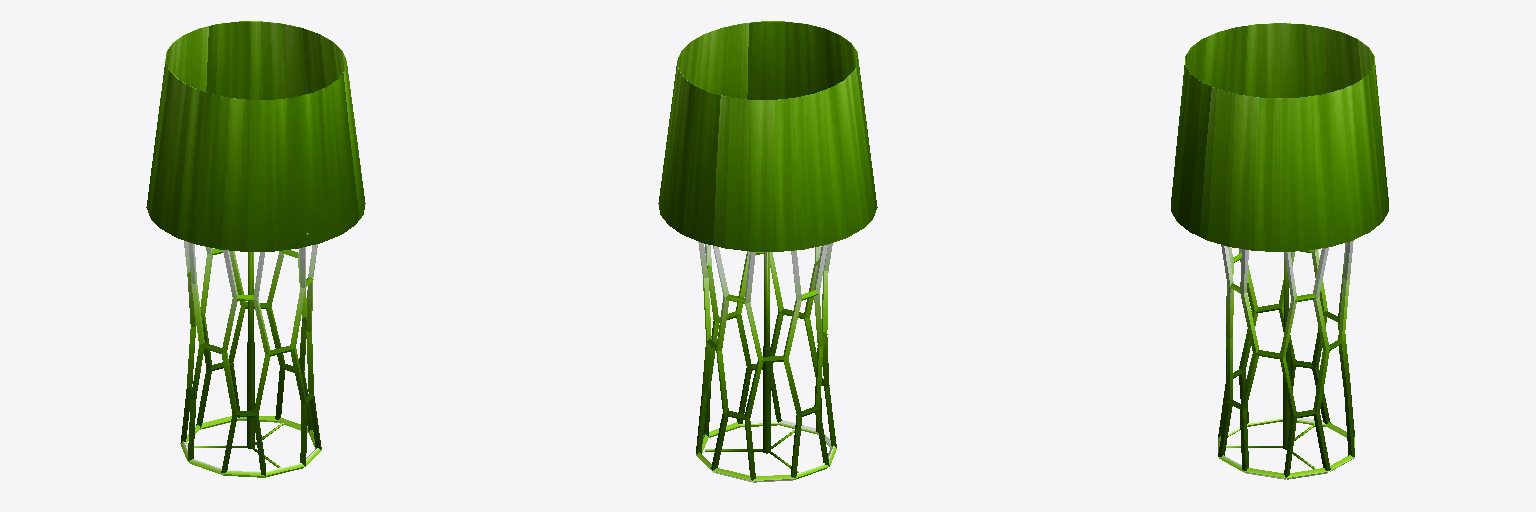
3 renders of one model, left to right at view 1: azimuth 30°, elevation 25°; view 2: azimuth 150°, elevation 25°; view 3: azimuth 270°, elevation 25°, orthographic.
Parts seen in each view (by area): view 1: g Cylinder002, g Cylinder001, g Obj_01; view 2: g Cylinder002, g Cylinder001, g Obj_01; view 3: g Cylinder002, g Cylinder001, g Obj_01.
Boxes of the visible parts, box(x1,y1,x2,y2) form: g Cylinder002: box(146, 21, 365, 251); g Cylinder001: box(180, 241, 321, 477); g Obj_01: box(194, 233, 308, 467); g Cylinder002: box(658, 21, 877, 251); g Cylinder001: box(696, 241, 836, 482); g Obj_01: box(705, 252, 798, 472); g Cylinder002: box(1171, 23, 1388, 251); g Cylinder001: box(1218, 240, 1354, 479); g Obj_01: box(1226, 252, 1315, 469).
Size of the model in its own units: 0.5176 by 1.02 by 0.5138.
Materials: 1 (1 with a texture image).